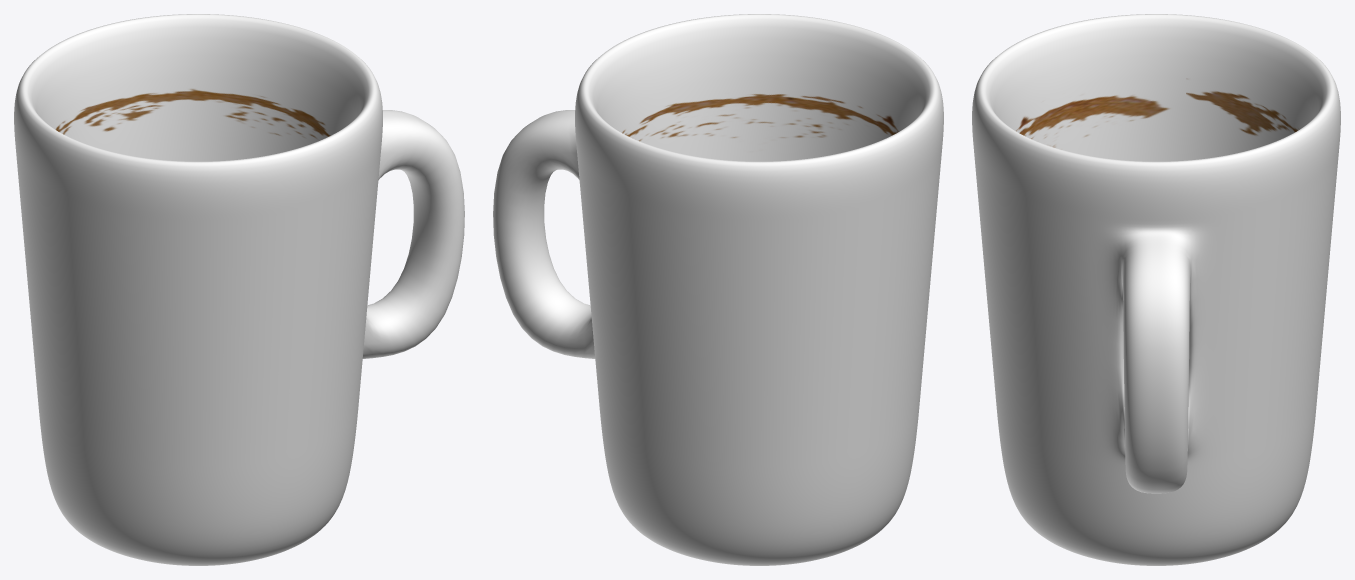
Rendered from Dirty Mug NEW.fbx.
3 renders of one model, left to right at view 1: azimuth 30°, elevation 25°; view 2: azimuth 150°, elevation 25°; view 3: azimuth 270°, elevation 25°, orthographic.
Visible parts, largest first — view 1: DirtyMug; view 2: DirtyMug; view 3: DirtyMug.
Boxes of the visible parts, x1=… form: DirtyMug: x1=14, y1=14, x2=464, y2=565; DirtyMug: x1=493, y1=14, x2=943, y2=565; DirtyMug: x1=972, y1=14, x2=1340, y2=565.
Bounding box in the file's own units: 407 × 403 × 311.
